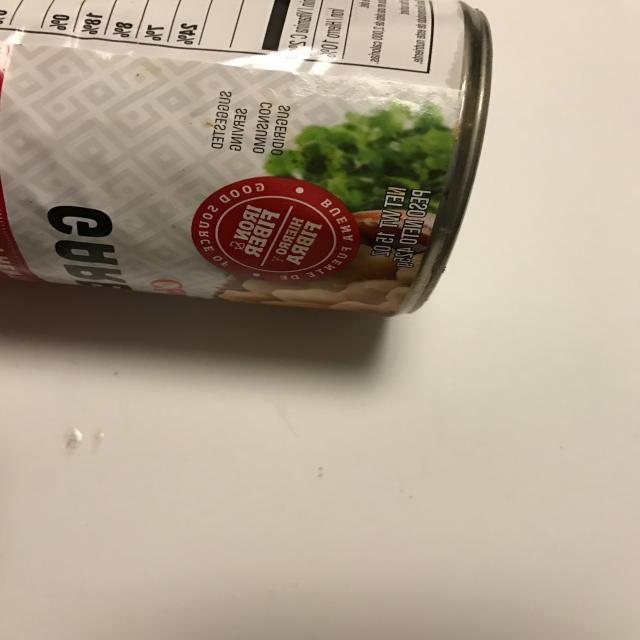metal: (0, 0, 495, 317)
